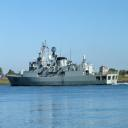Fragata: (6, 41, 120, 87)
